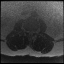CCS_normal: (30, 29, 31, 37)
LFS_normal: (33, 28, 35, 34)
LLS_normal: (31, 29, 33, 36)
RFS_normal: (26, 28, 28, 34)
RLS_stenosis: (28, 29, 30, 35)
